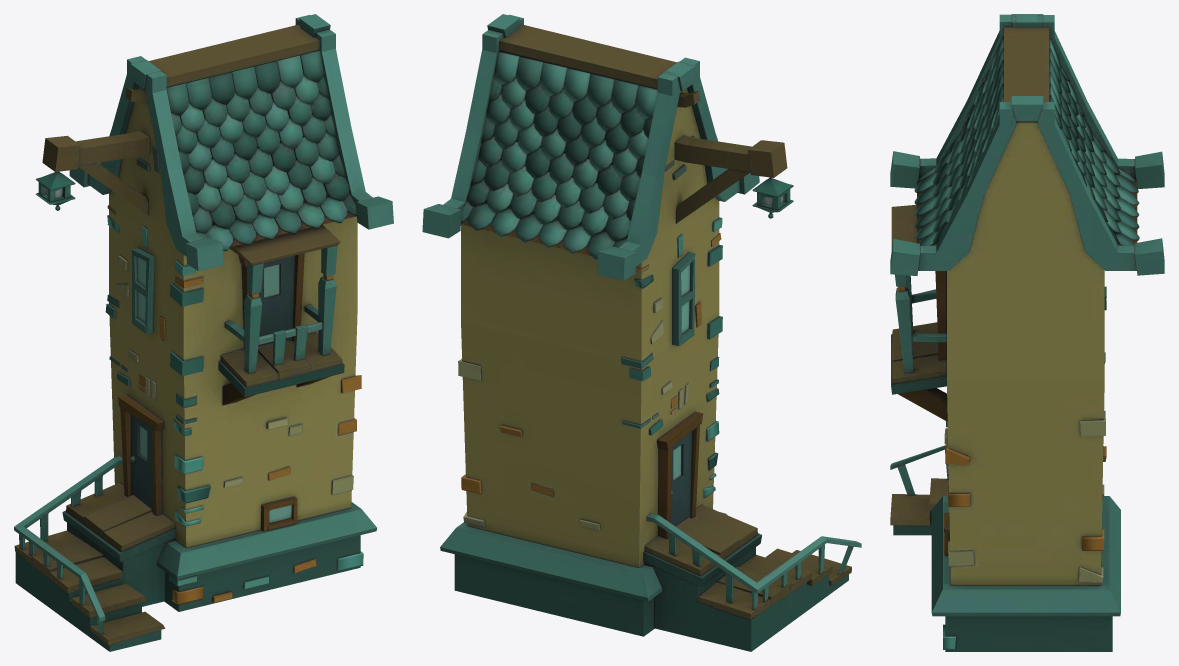
Rendered from cartoon_house.glb.
3 renders of one model, left to right at view 1: azimuth 30°, elevation 25°; view 2: azimuth 150°, elevation 25°; view 3: azimuth 270°, elevation 25°, orthographic. The views are drawn at different scales.
Visible parts, largest first — view 1: Object_3, Object_2; view 2: Object_3, Object_2; view 3: Object_3, Object_2.
Boxes of the visible parts, x1,y1,x2,y2 form: Object_3: [14, 14, 393, 651]; Object_2: [109, 86, 357, 548]; Object_3: [422, 14, 861, 651]; Object_2: [461, 88, 719, 567]; Object_3: [890, 14, 1164, 651]; Object_2: [947, 122, 1104, 585].
Size of the model in its own units: 3.65 by 6.1 by 2.77.
2 materials, 2 textured.
